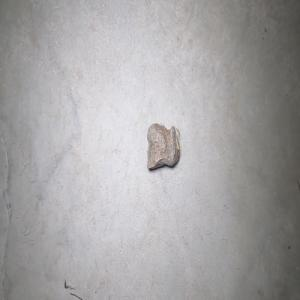Rock: (146, 120, 180, 169)
